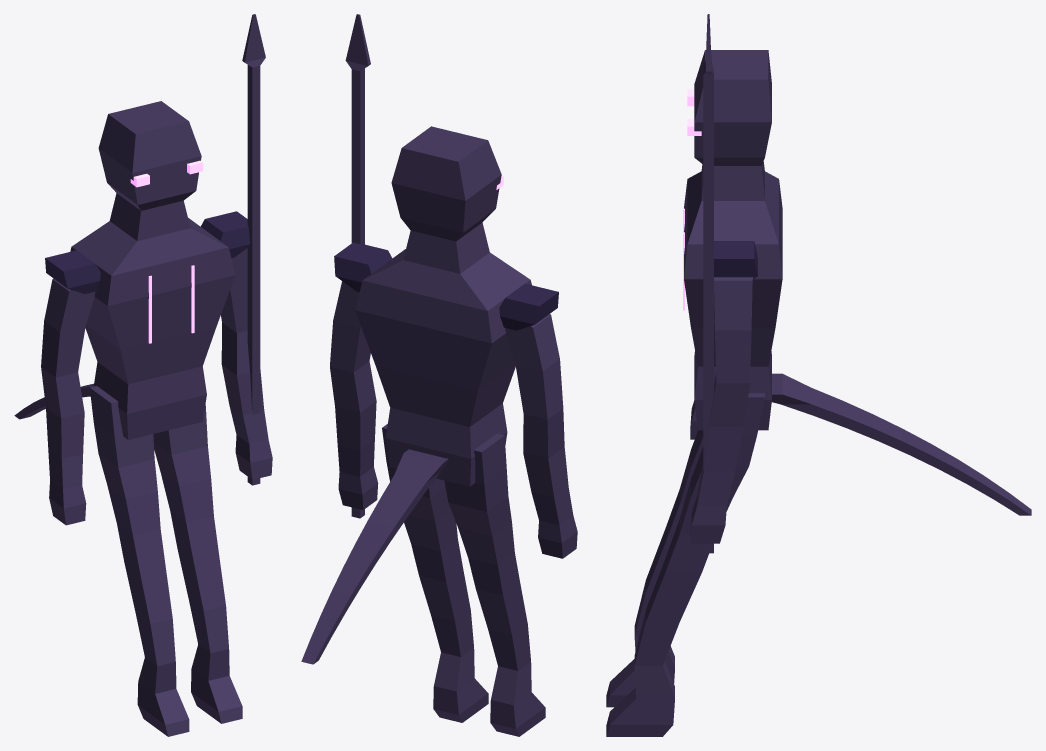
Rendered from battle_monolith.glb.
3 renders of one model, left to right at view 1: azimuth 30°, elevation 25°; view 2: azimuth 150°, elevation 25°; view 3: azimuth 270°, elevation 25°, orthographic. The views are drawn at different scales.
Visible parts, largest first — view 1: BattleAlien_monolith; view 2: BattleAlien_monolith; view 3: BattleAlien_monolith.
Boxes of the visible parts, x1,y1,x2,y2 form: BattleAlien_monolith: (14, 14, 272, 736); BattleAlien_monolith: (301, 14, 577, 736); BattleAlien_monolith: (606, 14, 1031, 736).
Size of the model in its own units: 0.784 by 2.36 by 1.21.
